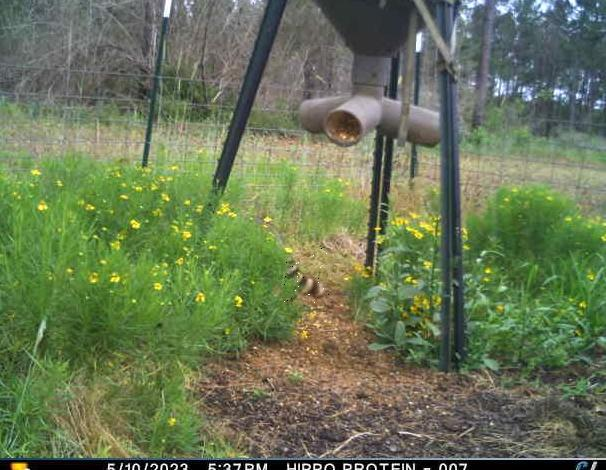Raccoon: (284, 249, 330, 304)
